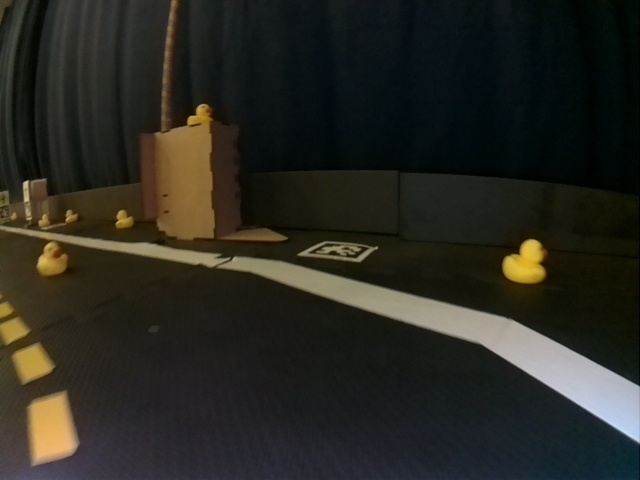Duckie: (502, 239, 548, 283), (37, 241, 65, 276), (187, 104, 214, 125), (115, 209, 134, 229), (64, 209, 78, 223), (38, 214, 50, 227)
QR code: (297, 240, 377, 261)
